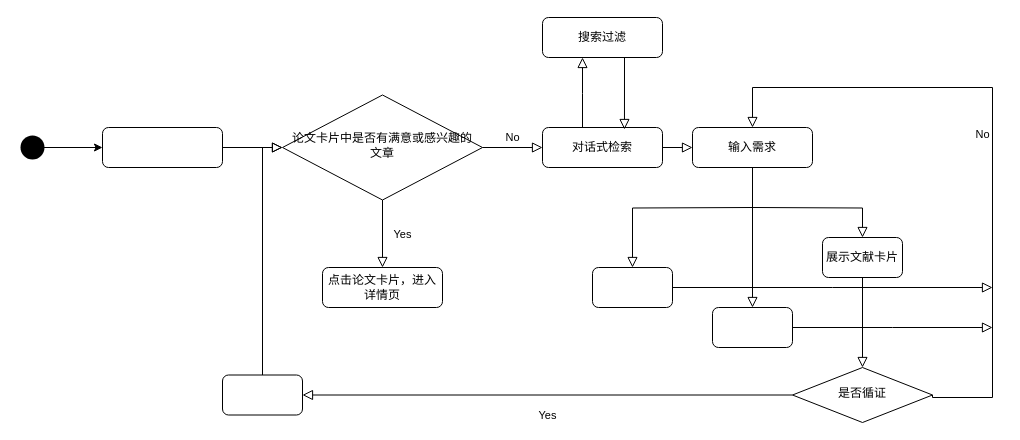
The diagram is 1020 pixels wide and 440 high, and some of its shapes have lost their labels. The box of each missing label's shape, as (x1, y1, x2, y2) in pixels:
修改卡片: (222, 374, 302, 415)
关键词检索: (102, 126, 222, 168)
总结论文: (592, 266, 672, 308)
正常对话: (712, 306, 792, 348)
